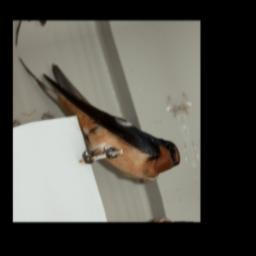Swallow: (20, 26, 184, 199)
